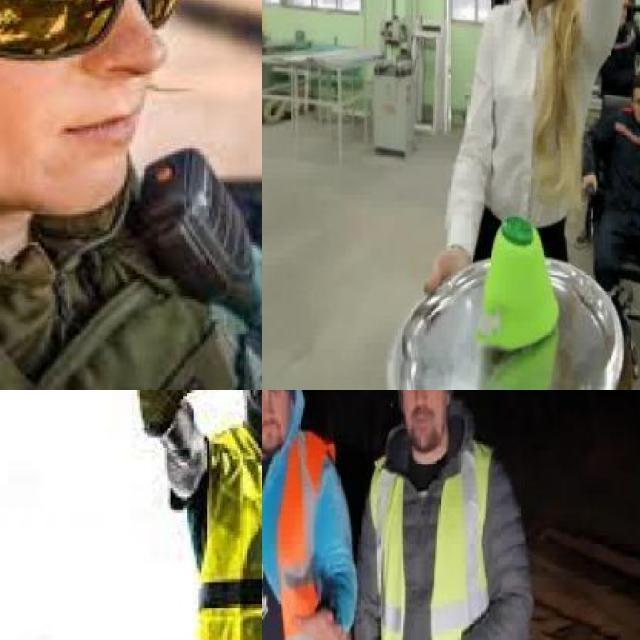apron: (120, 390, 217, 425)
